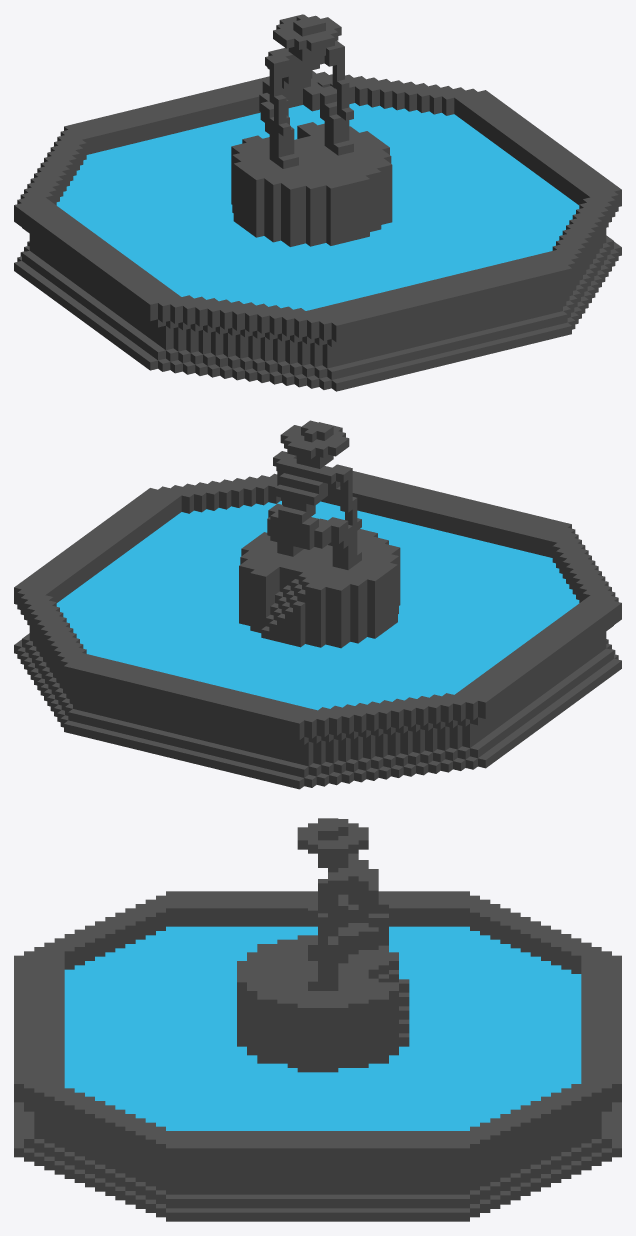
Rendered from Fountane.fbx.
3 views of the same model, one above another, from view 1: azimuth 30°, elevation 25°; view 2: azimuth 150°, elevation 25°; view 3: azimuth 270°, elevation 25° (orthographic). The views are drawn at different scales.
Parts seen in each view (by area): view 1: Node; view 2: Node; view 3: Node.
Boxes of the visible parts, x1,y1,x2,y2 form: Node: [14, 14, 621, 391]; Node: [14, 420, 621, 789]; Node: [14, 818, 621, 1221].
Size of the model in its own units: 600 by 290 by 600.
1 material, 1 textured.
